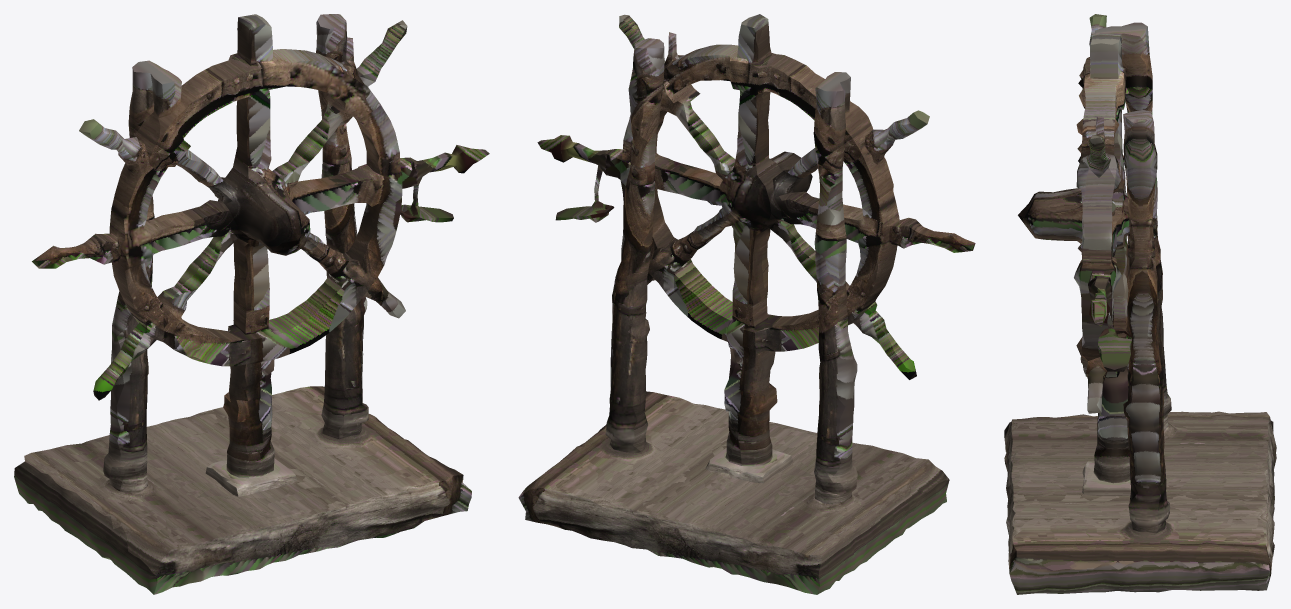
Rendered from wheel.glb.
The picture shows the model from 3 angles, left to right: view 1: azimuth 30°, elevation 25°; view 2: azimuth 150°, elevation 25°; view 3: azimuth 270°, elevation 25°; orthographic projection. The views are drawn at different scales.
Visible parts, largest first — view 1: geometry_0; view 2: geometry_0; view 3: geometry_0.
Boxes of the visible parts, left/top/right/bottom form: geometry_0: left=14, top=14, right=489, bottom=594; geometry_0: left=518, top=14, right=975, bottom=594; geometry_0: left=1004, top=14, right=1276, bottom=594.
Size of the model in its own units: 2.83 by 3 by 1.53.
Materials: 1 (1 with a texture image).
